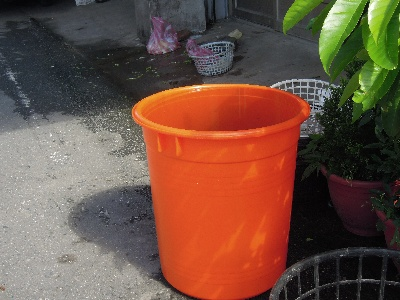bucket: (131, 82, 312, 300)
plastic_bag: (141, 15, 181, 57)
